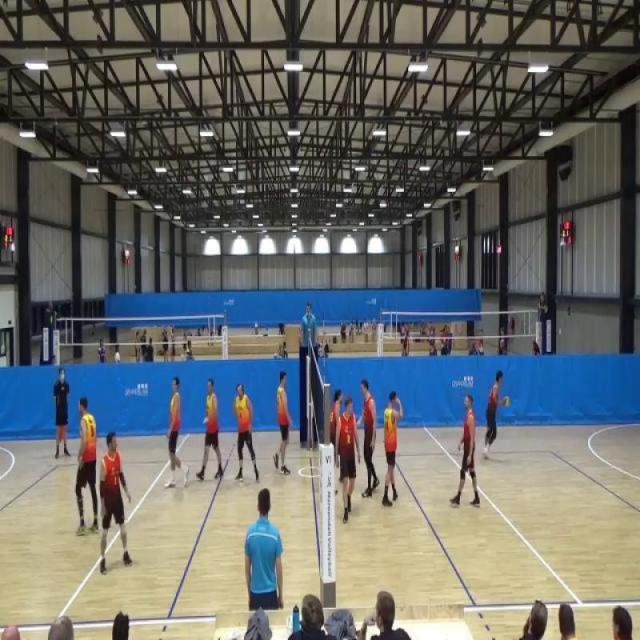volleyball: (503, 394, 511, 408)
